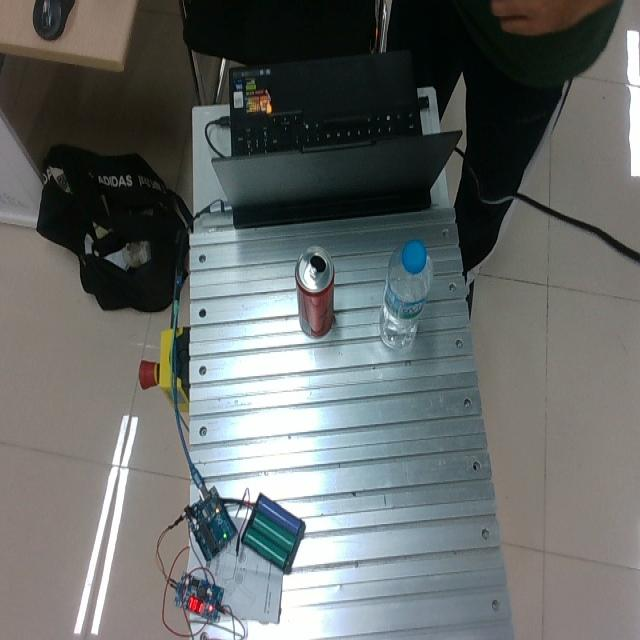coca: (294, 244, 335, 339)
lavie: (377, 240, 433, 352)
